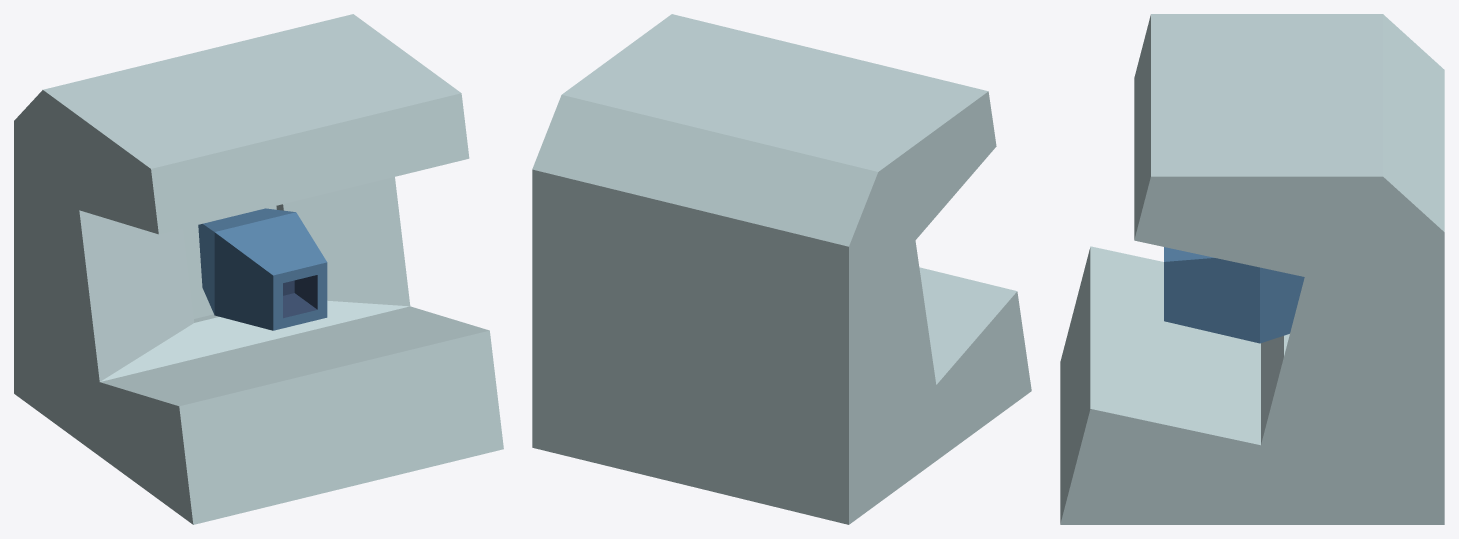
The model's file is ground_shooter_2.fbx.
3 views of the same model, side by side, from view 1: azimuth 30°, elevation 25°; view 2: azimuth 150°, elevation 25°; view 3: azimuth 270°, elevation 25° (orthographic). The views are drawn at different scales.
Visible parts, largest first — view 1: GroundShooter2Base, GroundShooter2Gun; view 2: GroundShooter2Base; view 3: GroundShooter2Base, GroundShooter2Gun.
Part boxes in pixels (bbox=[...]): GroundShooter2Base: bbox=[14, 14, 503, 524]; GroundShooter2Gun: bbox=[198, 208, 327, 330]; GroundShooter2Base: bbox=[532, 14, 1031, 524]; GroundShooter2Base: bbox=[1060, 14, 1444, 524]; GroundShooter2Gun: bbox=[1164, 247, 1304, 343].
Bounding box in the file's own units: 200 × 200 × 200.
